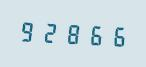eight: (62, 19, 83, 47)
nine: (18, 17, 39, 45)
six: (84, 20, 105, 48), (106, 21, 127, 49)
two: (40, 18, 61, 46)
